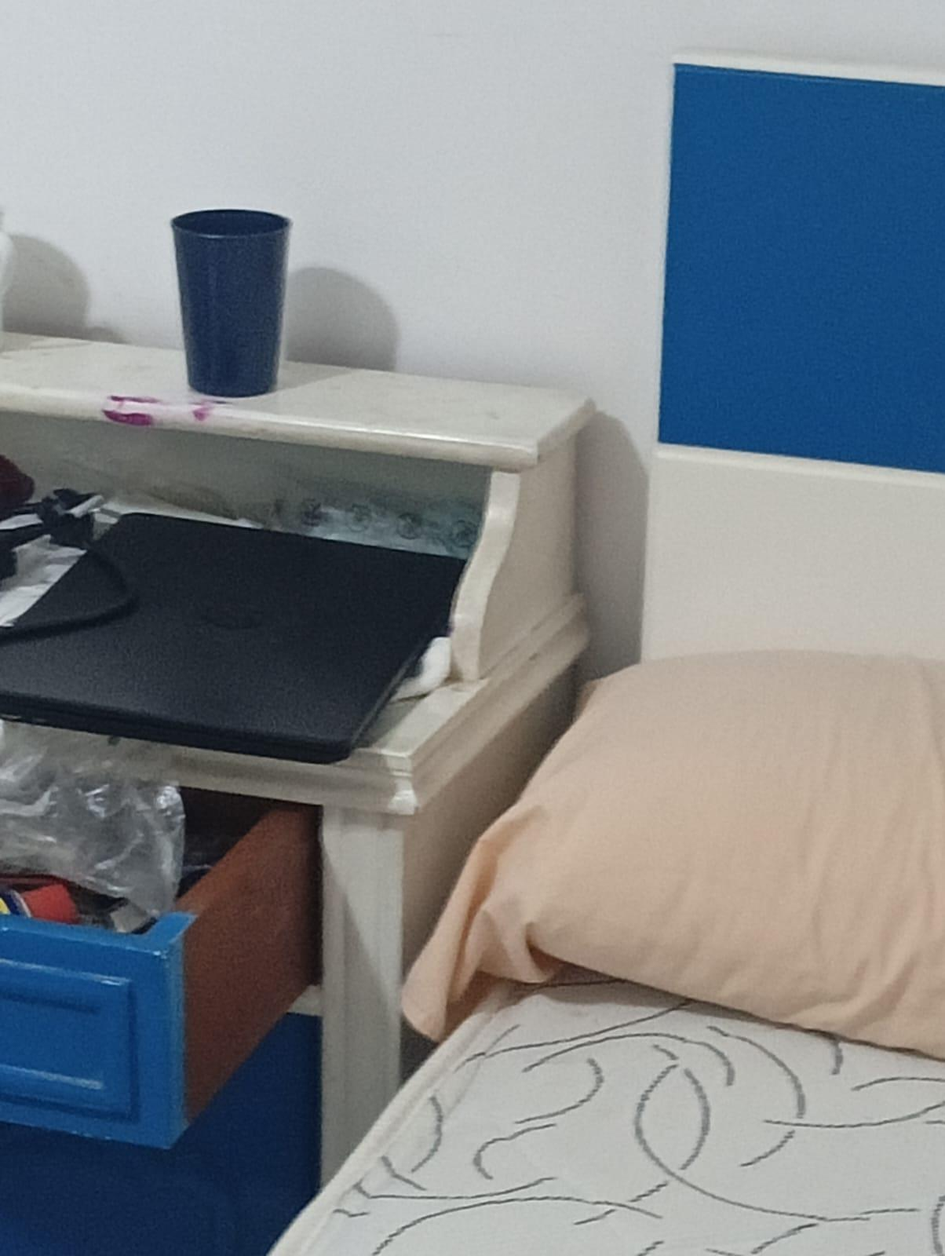cup: (172, 209, 290, 396)
